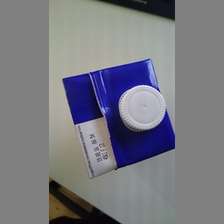milk: (57, 59, 180, 184)
